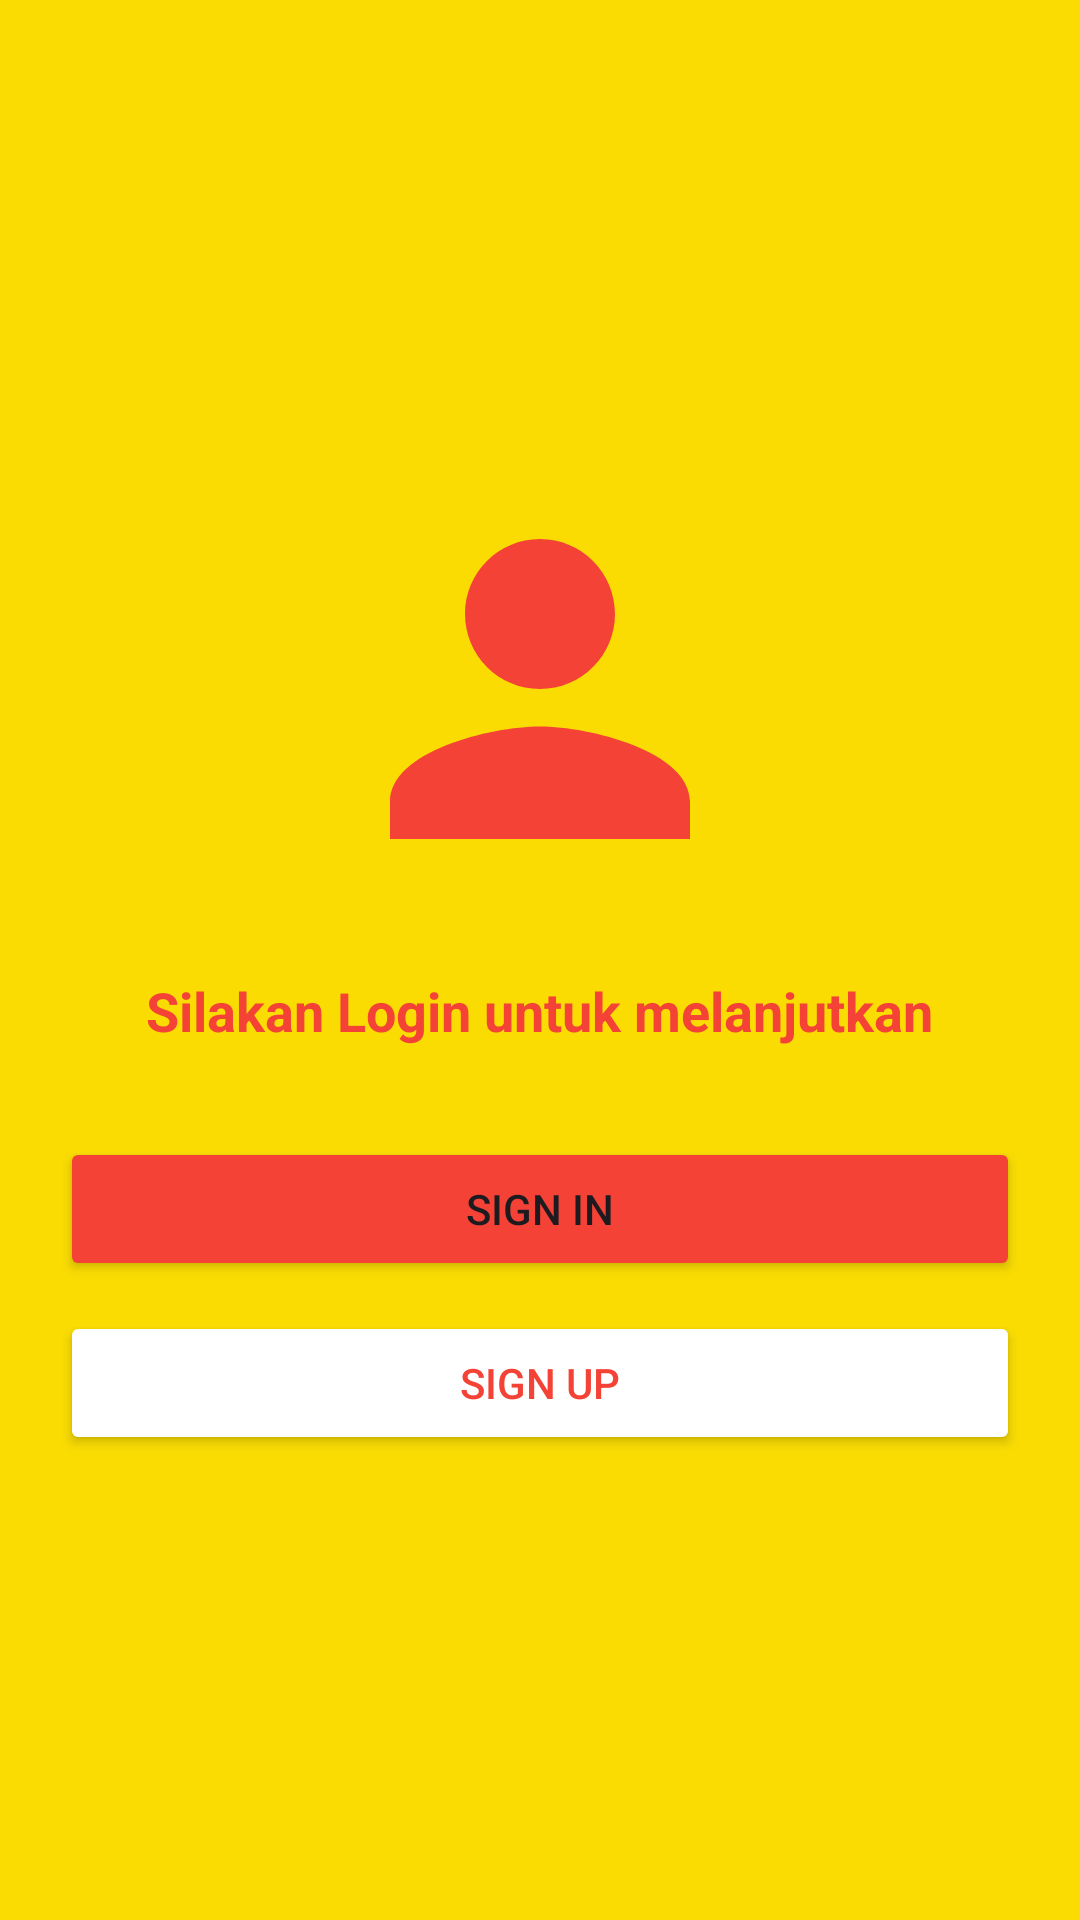

Icons on this 1080px x 1920px Android screen, each with the point to tap as (x=x, y=y):
person: (x=540, y=689)
